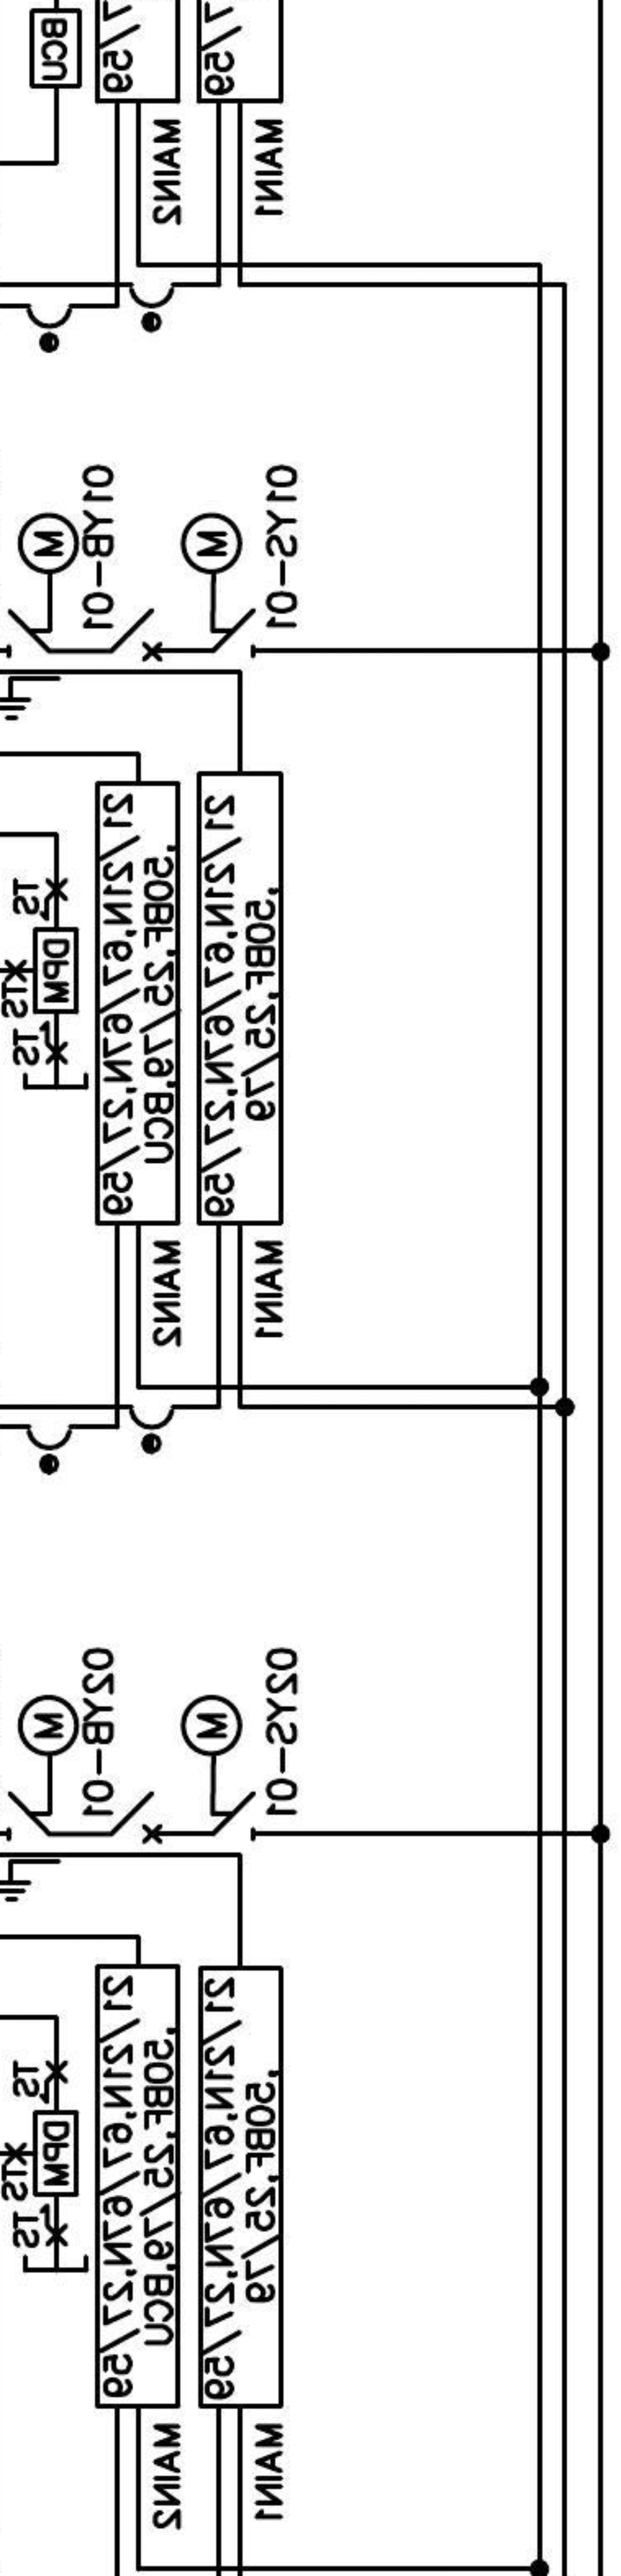115_1way_ds_w_motor: (179, 511, 256, 660), (181, 1694, 258, 1843)
115_breaker: (110, 608, 163, 662), (110, 1791, 163, 1845)
BCU: (28, 7, 82, 90)
DPM: (33, 2109, 80, 2197), (33, 927, 79, 1015)
